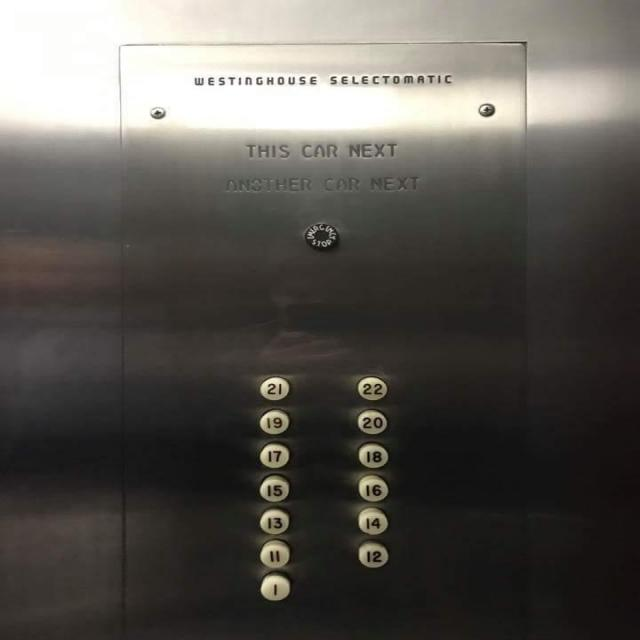1: (260, 571, 292, 600)
11: (256, 540, 292, 568)
12: (356, 539, 388, 567)
13: (256, 506, 291, 535)
14: (354, 506, 388, 535)
15: (256, 473, 291, 502)
16: (354, 474, 388, 501)
17: (257, 441, 291, 468)
18: (354, 441, 388, 468)
19: (258, 407, 290, 435)
20: (354, 408, 388, 434)
21: (257, 374, 291, 401)
22: (354, 375, 388, 400)
text: (302, 221, 342, 250)
